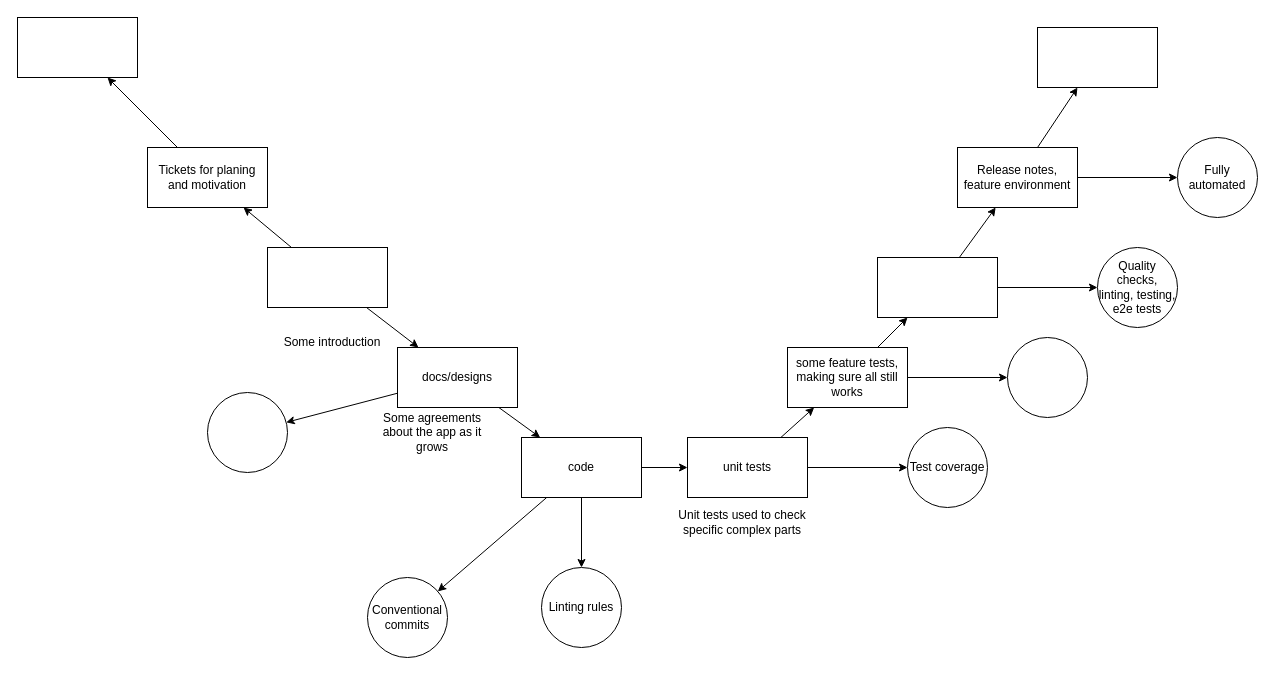
Some shapes in this 1275 by 675 pixel diagram are drawn without their labels. The shapes that lost their labels are listed below. From the top down, each one's centre as x and y in pixels, then its label:
point (77, 47): Roadmap available
point (1097, 57): Quality checks, version check, some maintenance and support, SLA
point (327, 277): README.md
point (937, 287): Pipeline with checks
point (1047, 377): Regression tests automated
point (247, 432): More features documented e.g. user manual
